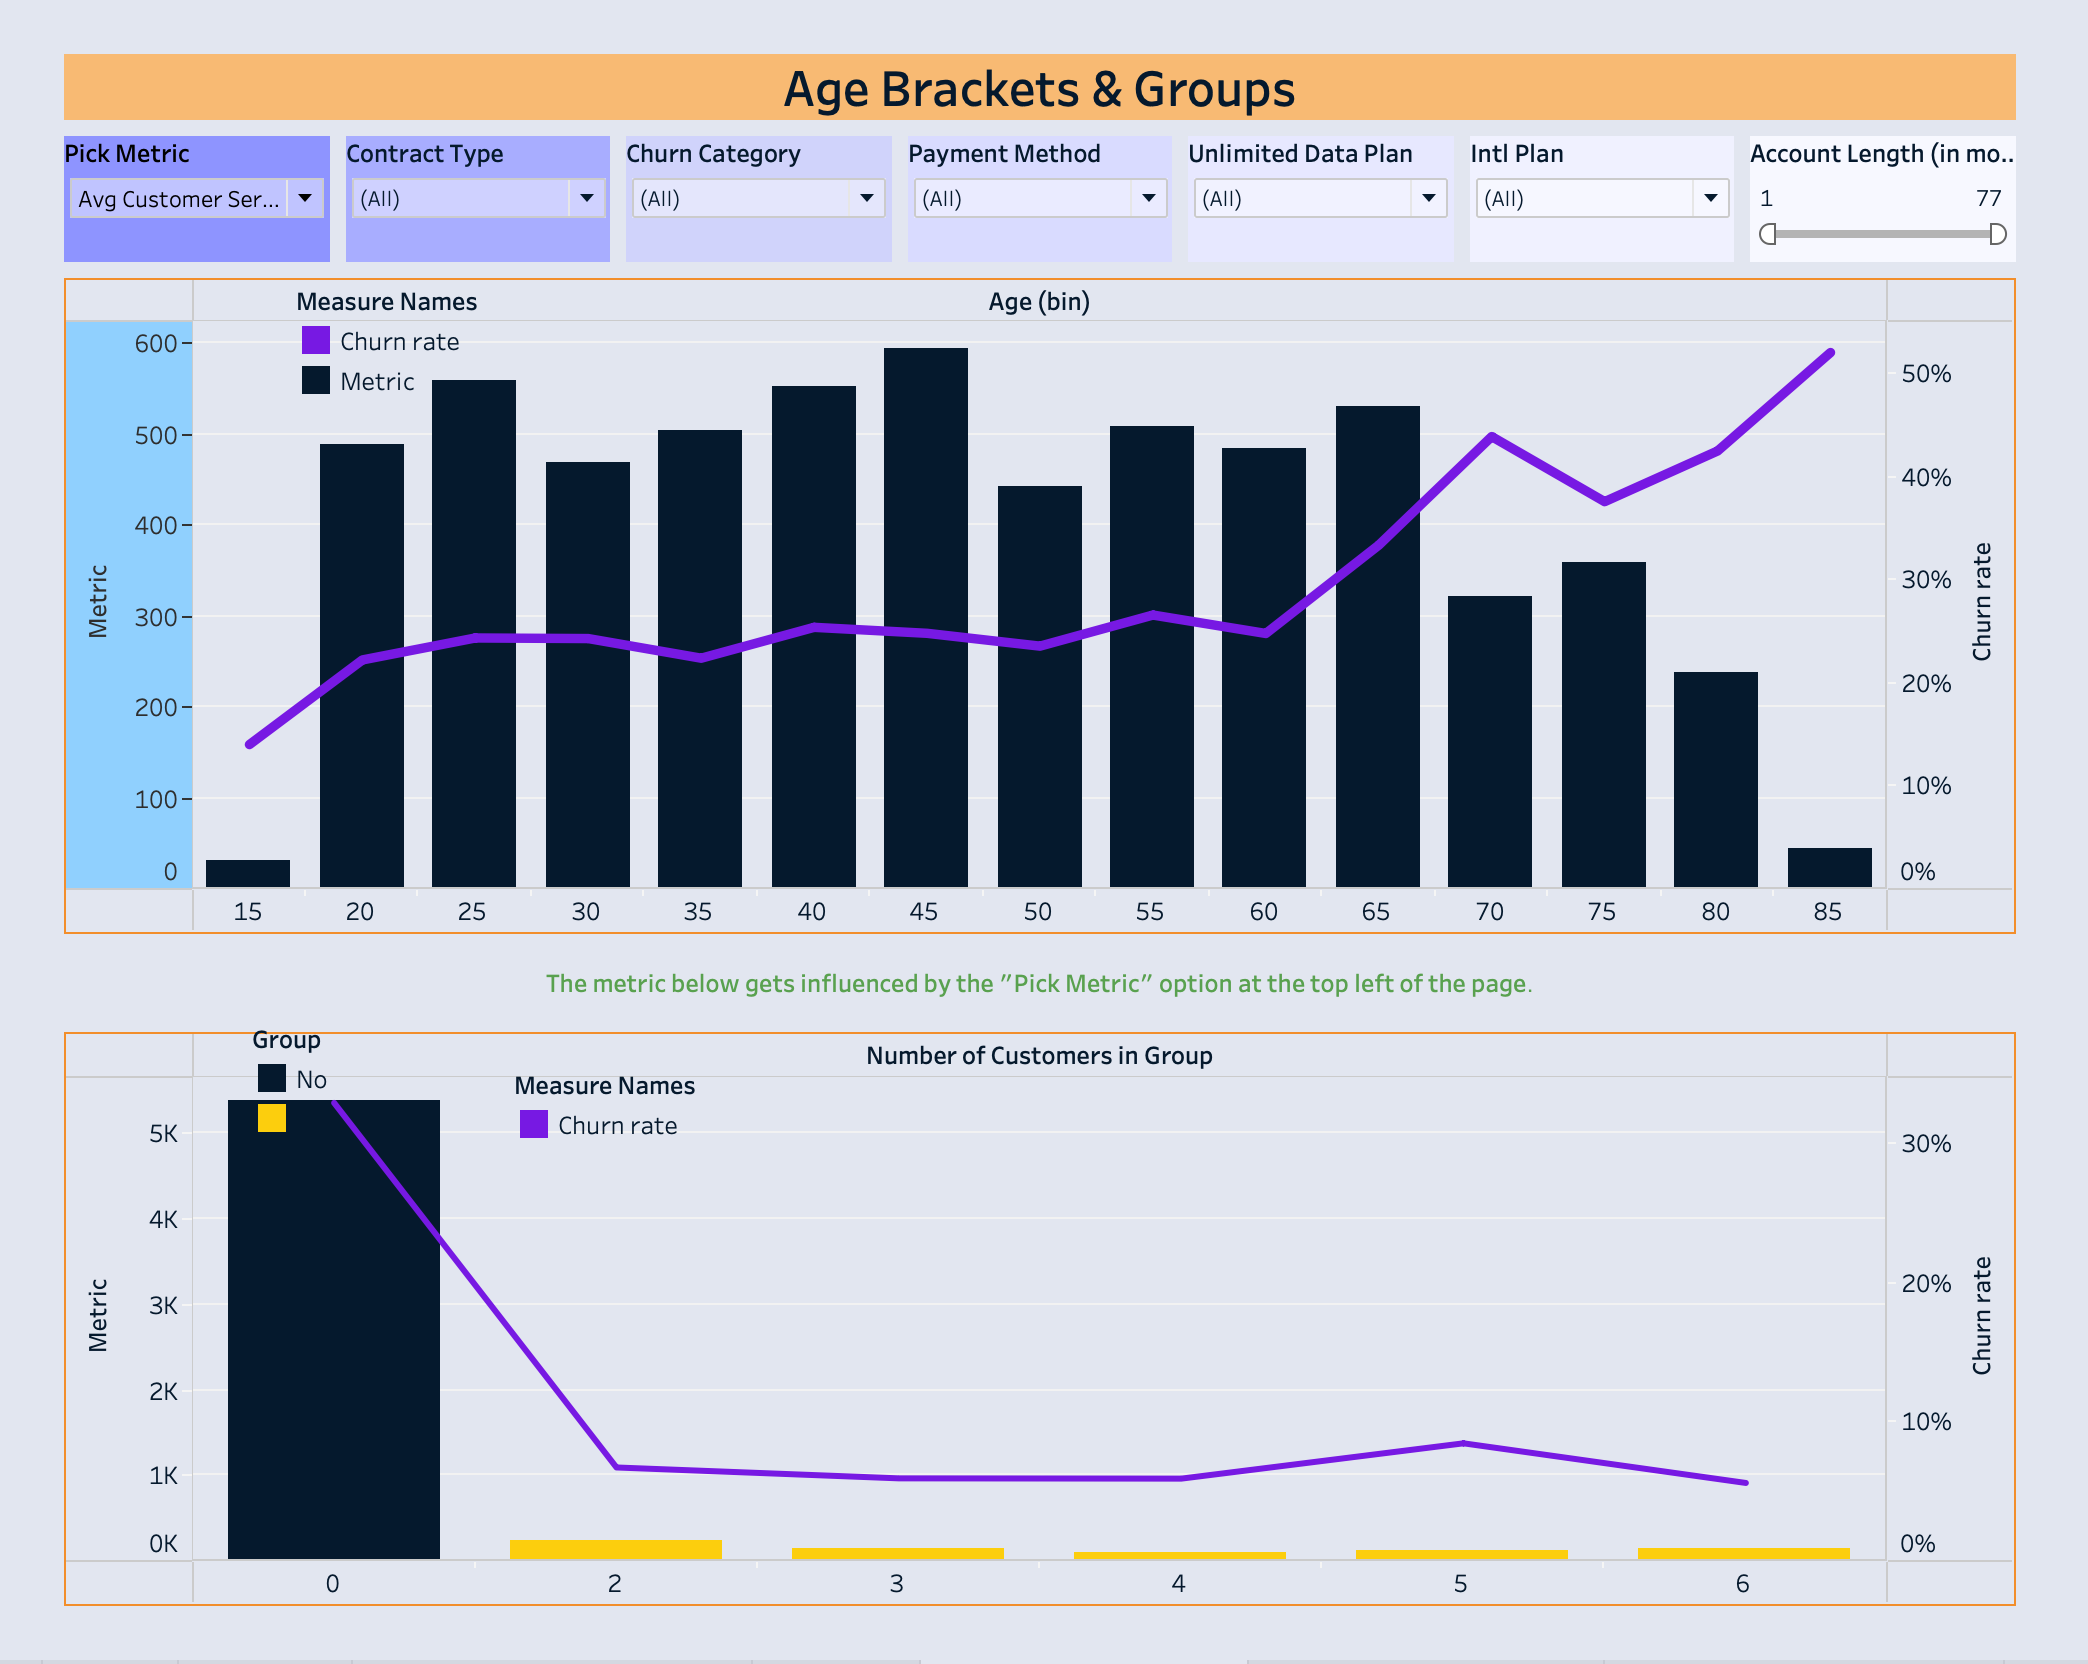

This screenshot's page, from the dashboard's own definition file:
{"tool":"tableau","page":{"name":"Age Brackets & Groups","canvas":[1000,800],"ordinal":0},"visuals":[{"type":"title","box":[8,8,984,41]},{"type":"parameter","param":"[Parameters].[Parameter 1]","box":[8,49,140.6,71.1]},{"type":"filter","title":"Age Brackets","param":"[federated.1559pdh1893exj185r2jq1n05w4m].[none:Contract Type:nk]","box":[148.6,49,140.6,71.1]},{"type":"filter","title":"Age Brackets","param":"[federated.1559pdh1893exj185r2jq1n05w4m].[none:Churn Category:nk]","box":[289.1,49,140.6,71.1]},{"type":"filter","title":"Age Brackets","param":"[federated.1559pdh1893exj185r2jq1n05w4m].[none:Payment Method:nk]","box":[429.7,49,140.6,71.1]},{"type":"filter","title":"Age Brackets","param":"[federated.1559pdh1893exj185r2jq1n05w4m].[none:Unlimited Data Plan:nk]","box":[570.3,49,140.6,71.1]},{"type":"filter","title":"Age Brackets","param":"[federated.1559pdh1893exj185r2jq1n05w4m].[none:Intl Plan:nk]","box":[710.9,49,140.6,71.1]},{"type":"filter","title":"Age Brackets","param":"[federated.1559pdh1893exj185r2jq1n05w4m].[none:Account Length (in months):qk]","box":[851.4,49,140.6,71.1]},{"type":"worksheet","title":"Age Brackets","mark":"Bar","rows":["Calculation_627126265089003520","Calculation_161848126833676291"],"cols":["Age (bin)"],"box":[8,120.1,984,336]},{"type":"legend","title":"Age Brackets","param":"[federated.1559pdh1893exj185r2jq1n05w4m].[:Measure Names]","box":[128,127,150,58]},{"type":"text","box":[8,456,984,40.6]},{"type":"legend","title":"Groups","param":"[federated.1559pdh1893exj185r2jq1n05w4m].[none:Group:nk]","box":[106,496,122,66]},{"type":"worksheet","title":"Groups","mark":"Bar","rows":["Calculation_627126265089003520","Calculation_161848126833676291"],"cols":["Number of Customers in Group"],"box":[8,496.6,984,295.4]},{"type":"legend","title":"Groups","param":"[federated.1559pdh1893exj185r2jq1n05w4m].[:Measure Names]","box":[237,519,140,38]}]}

Visuals, with their boxes in screenshot pixels (x1, y1, x2, y2), scaled from the page's 1000x800 canvas onto the 2088x1664 screenshot:
title: (17,17,2071,102)
parameter: (17,102,310,250)
"Age Brackets" filter: (310,102,604,250)
"Age Brackets" filter: (604,102,897,250)
"Age Brackets" filter: (897,102,1191,250)
"Age Brackets" filter: (1191,102,1484,250)
"Age Brackets" filter: (1484,102,1778,250)
"Age Brackets" filter: (1778,102,2071,250)
"Age Brackets" worksheet (Bar marks): (17,250,2071,949)
"Age Brackets" legend: (267,264,580,385)
text: (17,948,2071,1033)
"Groups" legend: (221,1032,476,1169)
"Groups" worksheet (Bar marks): (17,1033,2071,1647)
"Groups" legend: (495,1080,787,1159)
